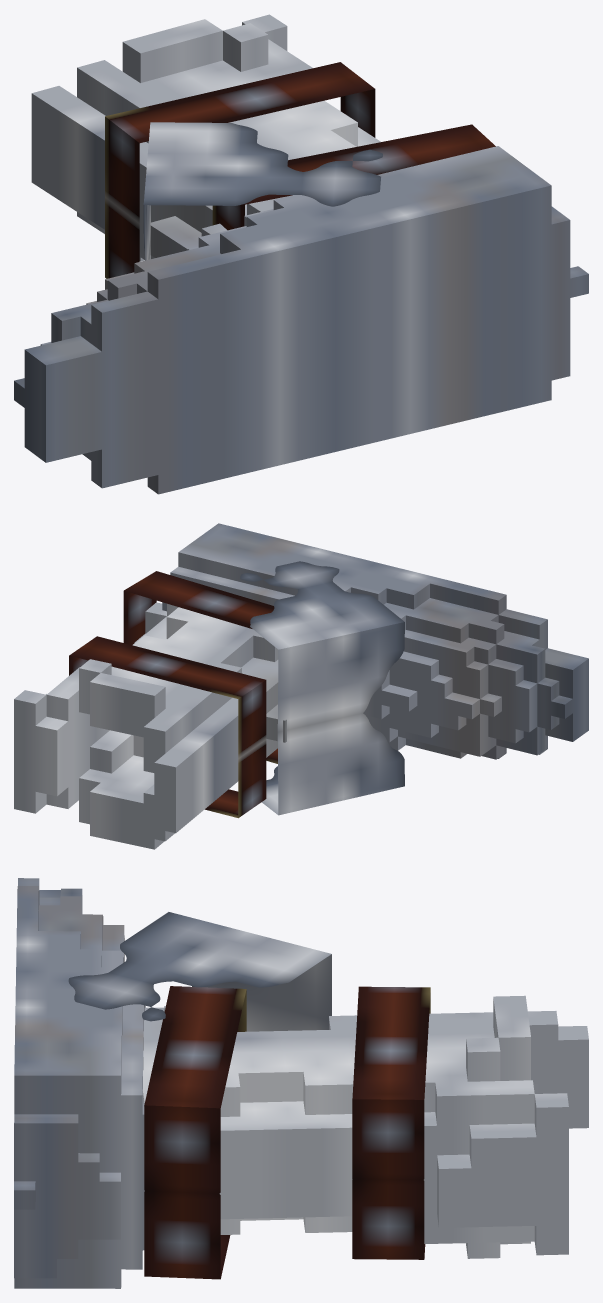
Rendered from Greaves.fbx.
3 renders of one model, top to bottom at view 1: azimuth 30°, elevation 25°; view 2: azimuth 150°, elevation 25°; view 3: azimuth 270°, elevation 25°, orthographic. The views are drawn at different scales.
Parts seen in each view (by area): view 1: Cube.039; view 2: Cube.039; view 3: Cube.039.
Part boxes in pixels (left/top/right/bottom): Cube.039: left=14, top=14, right=588, bottom=494; Cube.039: left=14, top=523, right=588, bottom=849; Cube.039: left=14, top=878, right=588, bottom=1288.
Size of the model in its own units: 209 by 83.66 by 194.
Materials: 1 (1 with a texture image).
